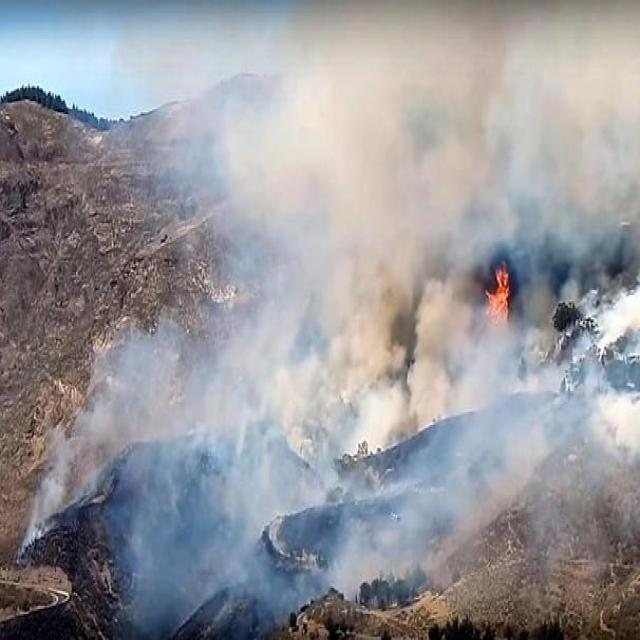Fire: (486, 255, 510, 328)
Smoke: (106, 0, 640, 633), (12, 311, 185, 576)
